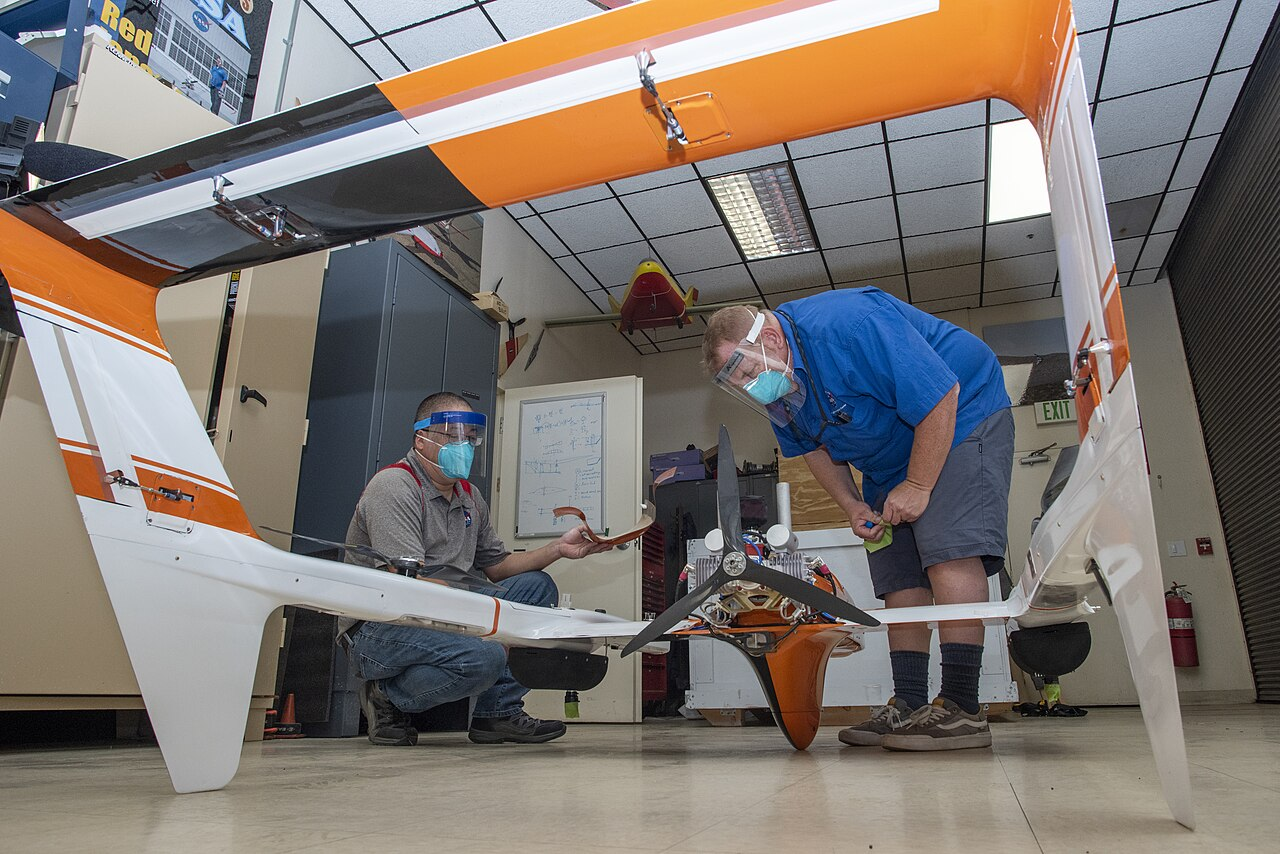drone: (0, 0, 1198, 829)
